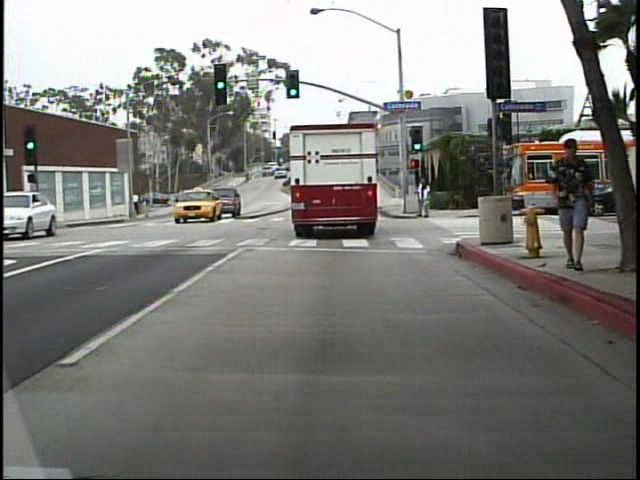person: (547, 130, 590, 280), (410, 177, 435, 222), (27, 189, 44, 231), (129, 187, 145, 220)
